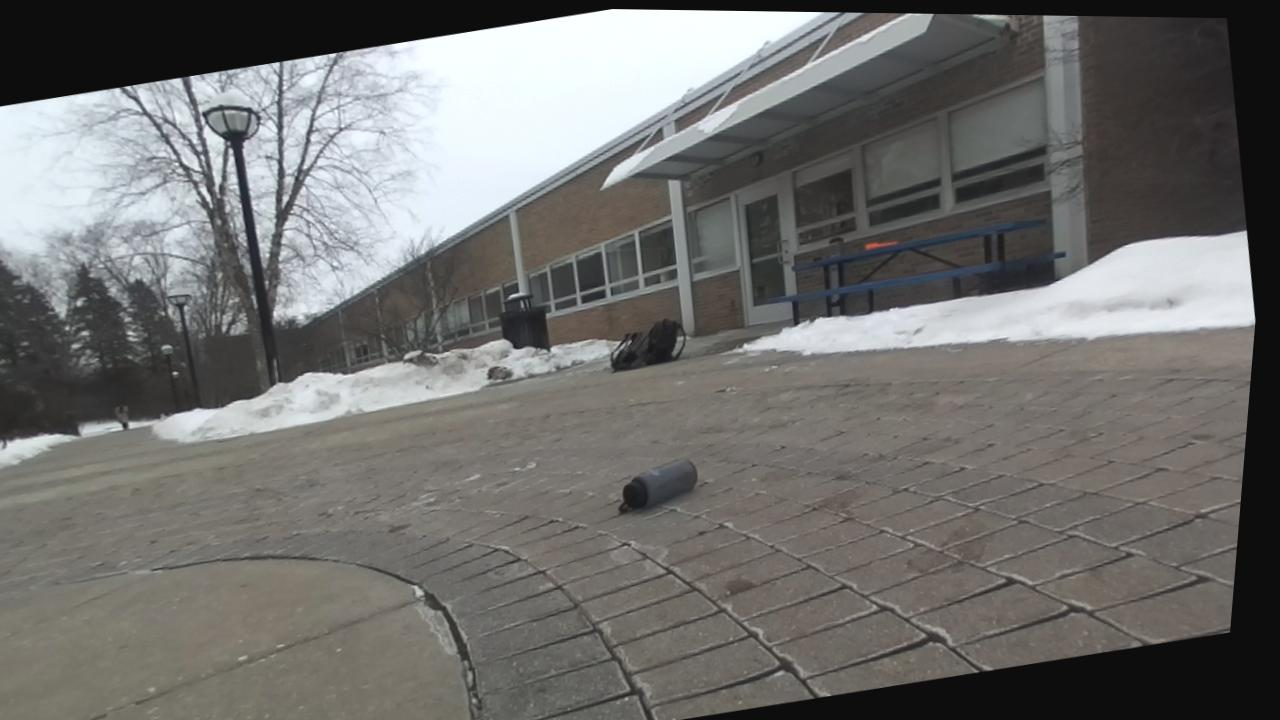bottle: (619, 459, 696, 511)
